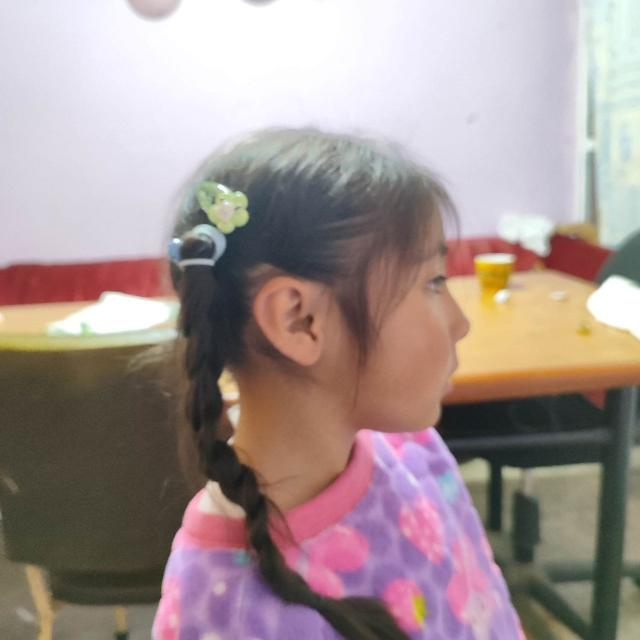ear: (254, 276, 322, 366)
